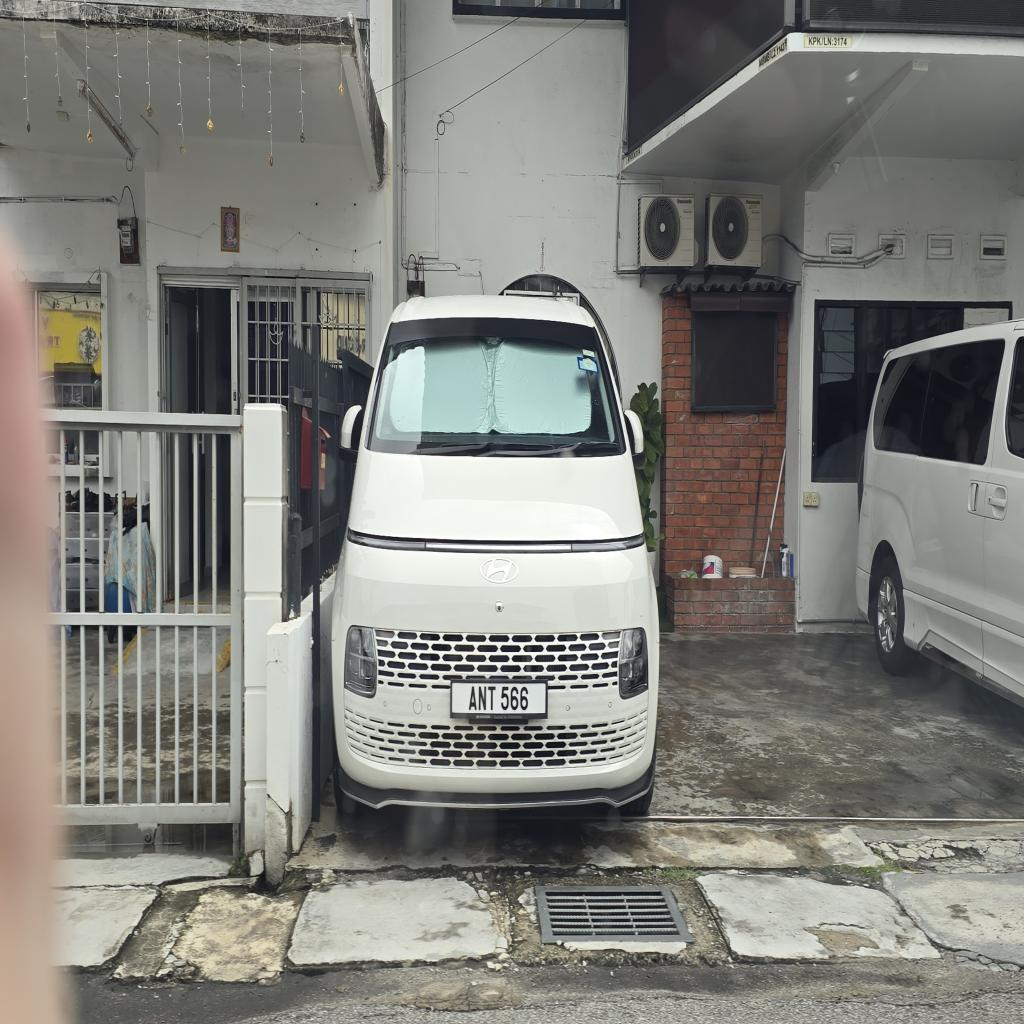car: (333, 297, 658, 813)
car plate: (451, 680, 546, 720)
